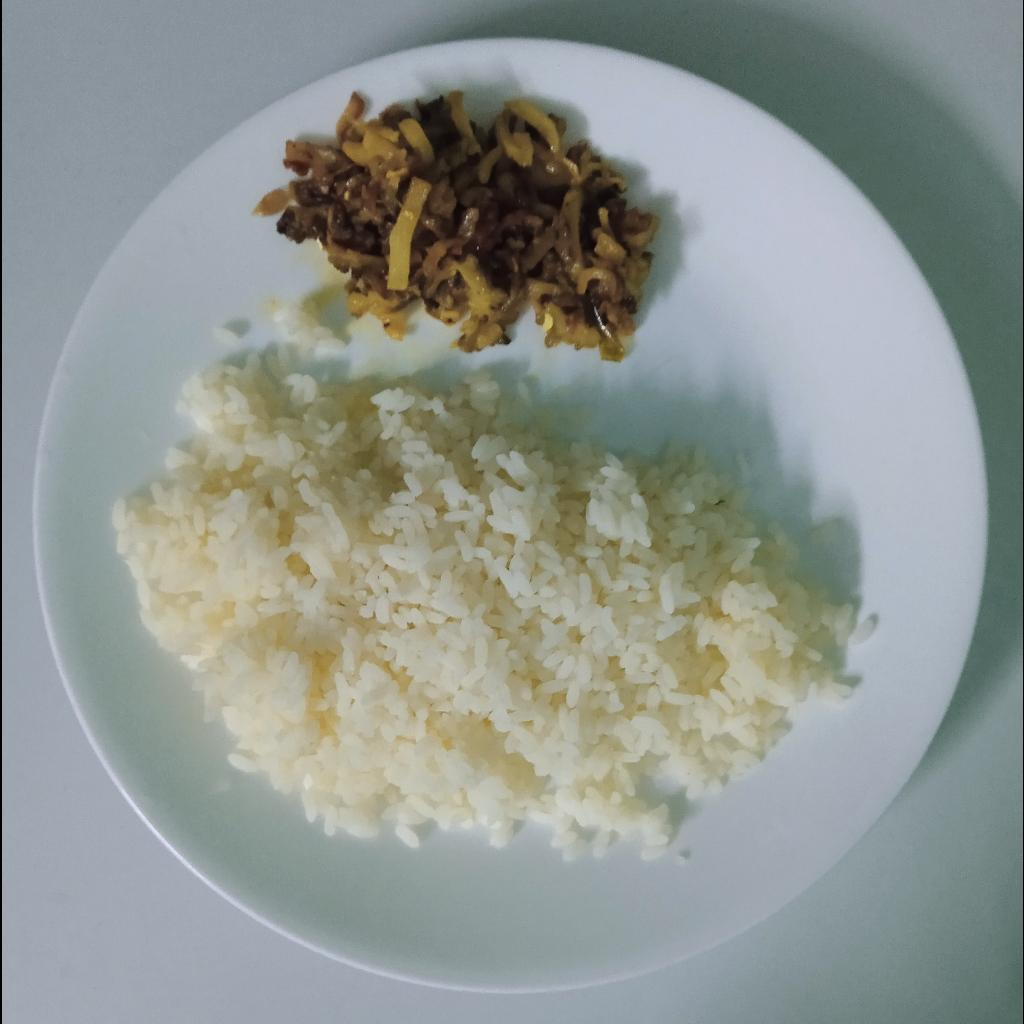rice: (103, 300, 885, 869)
vegetable: (253, 89, 665, 360)
